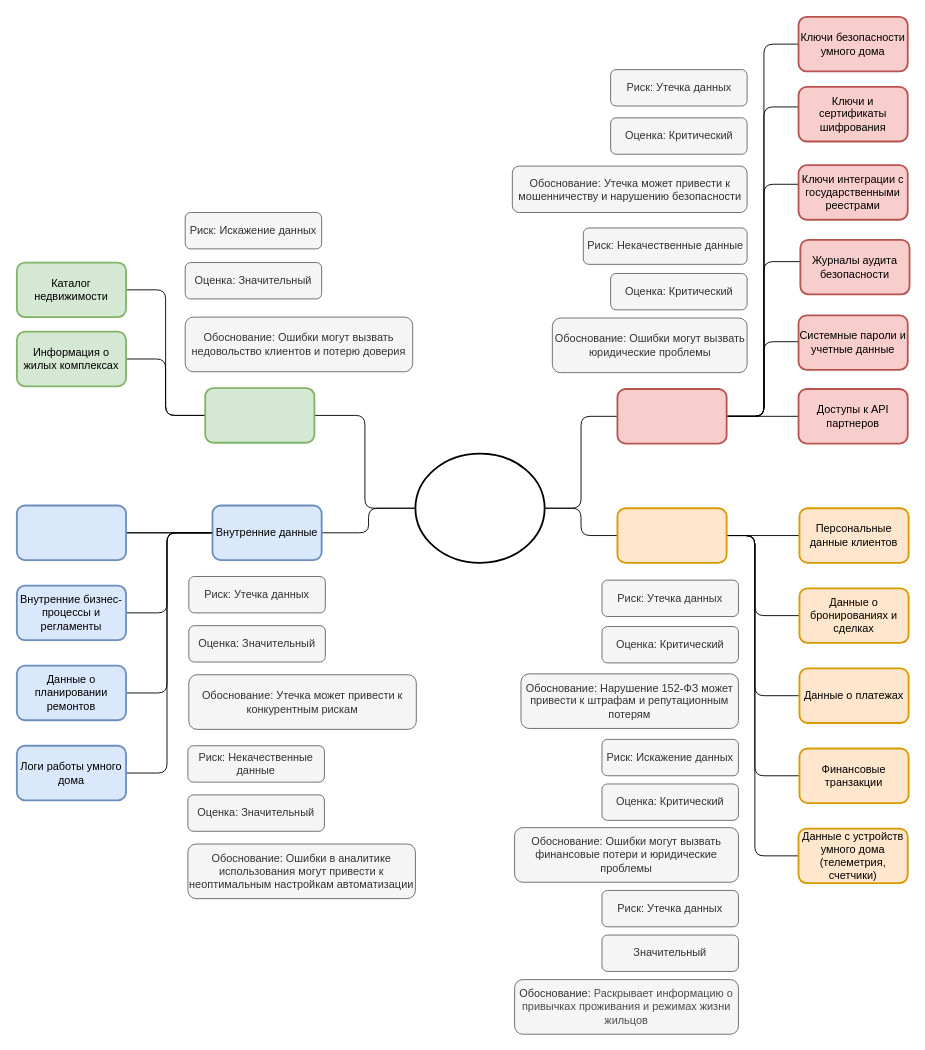
Some shapes in this 925 by 1050 pixel diagram are drawn without their labels. The centre of each missing label's shape, as x and y in pixels:
"Безопасность данных" goes at (x=479, y=507).
"Внутренние отчеты" goes at (x=70, y=532).
"Конфиденциальные данные" goes at (x=671, y=535).
"Публичные данные" goes at (x=259, y=415).
"Секретные данные" goes at (x=671, y=416).
